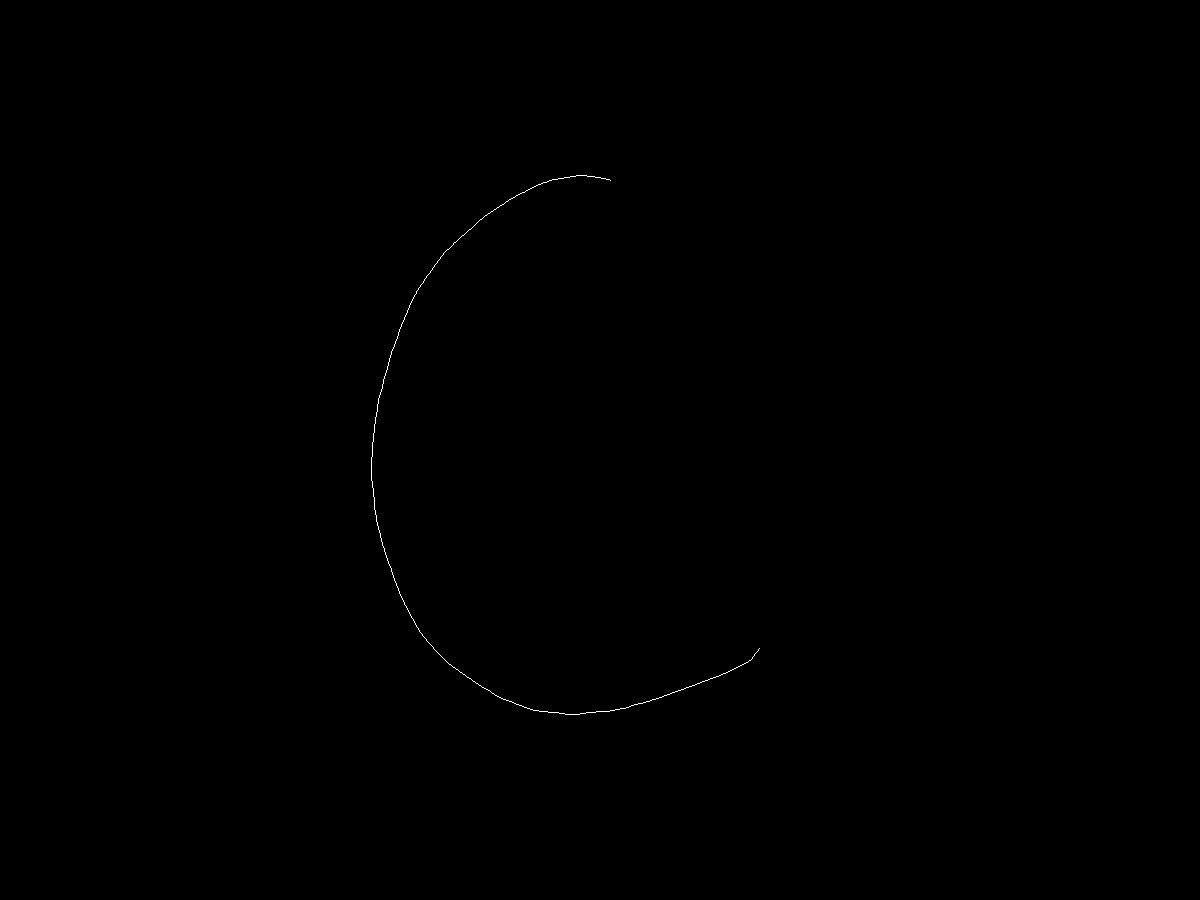dian1: (597, 173, 617, 197)
dian2: (747, 646, 769, 669)
